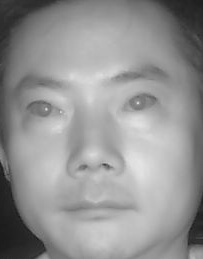eye: (24, 97, 68, 123), (122, 91, 160, 116)
mouth: (63, 190, 135, 228)
